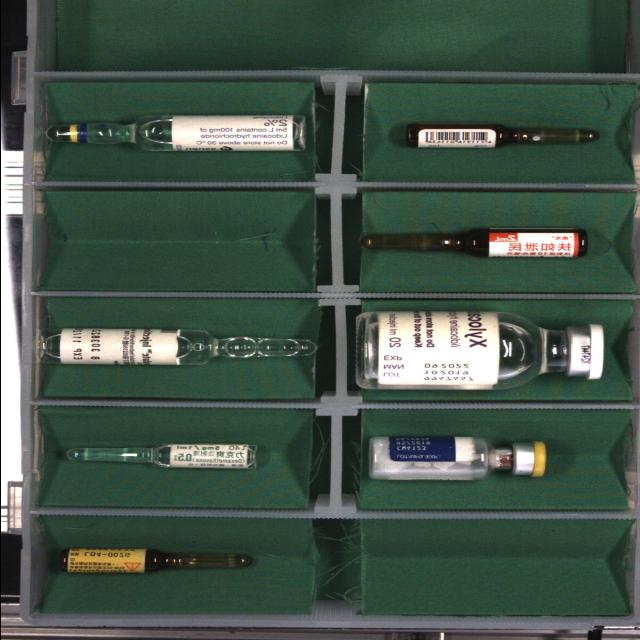Vials: (356, 311, 603, 389), (369, 436, 545, 480)
